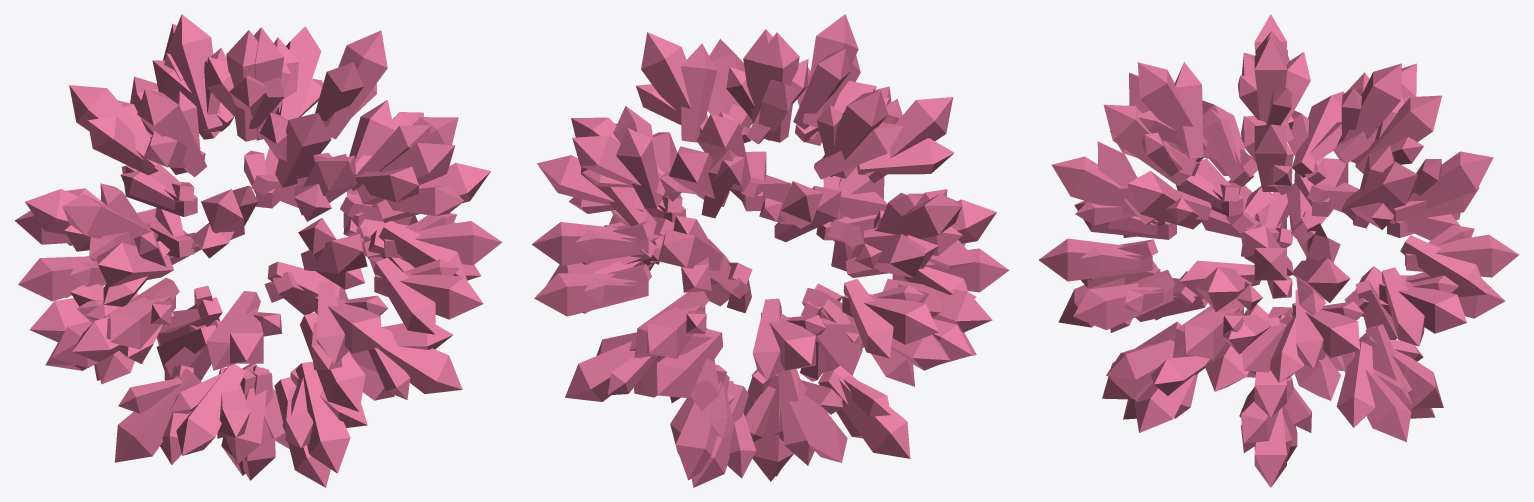
File: GemBlade.fbx
The picture shows the model from 3 angles, left to right: view 1: azimuth 30°, elevation 25°; view 2: azimuth 150°, elevation 25°; view 3: azimuth 270°, elevation 25°; orthographic projection. The views are drawn at different scales.
Parts seen in each view (by area): view 1: Cube.015, Cube.017, Cube.014, Cube.029, Cube.016; view 2: Cube.015, Cube.016, Cube.029, Cube.014, Cube.017; view 3: Cube.015, Cube.016, Cube.017, Cube.029, Cube.014.
Part boxes in pixels (x1=…): Cube.015: x1=14, y1=147, x2=502, y2=370; Cube.017: x1=25, y1=23, x2=481, y2=473; Cube.014: x1=52, y1=27, x2=458, y2=480; Cube.029: x1=130, y1=14, x2=367, y2=487; Cube.016: x1=29, y1=143, x2=490, y2=380; Cube.015: x1=531, y1=151, x2=1009, y2=380; Cube.016: x1=547, y1=39, x2=996, y2=480; Cube.029: x1=657, y1=14, x2=891, y2=487; Cube.014: x1=571, y1=29, x2=972, y2=476; Cube.017: x1=537, y1=128, x2=992, y2=355; Cube.015: x1=1039, y1=158, x2=1519, y2=368; Cube.016: x1=1103, y1=72, x2=1443, y2=441; Cube.017: x1=1102, y1=63, x2=1441, y2=432; Cube.029: x1=1052, y1=31, x2=1505, y2=461; Cube.014: x1=1241, y1=14, x2=1293, y2=487.
Size of the model in its own units: 1654 by 1752 by 1752.
